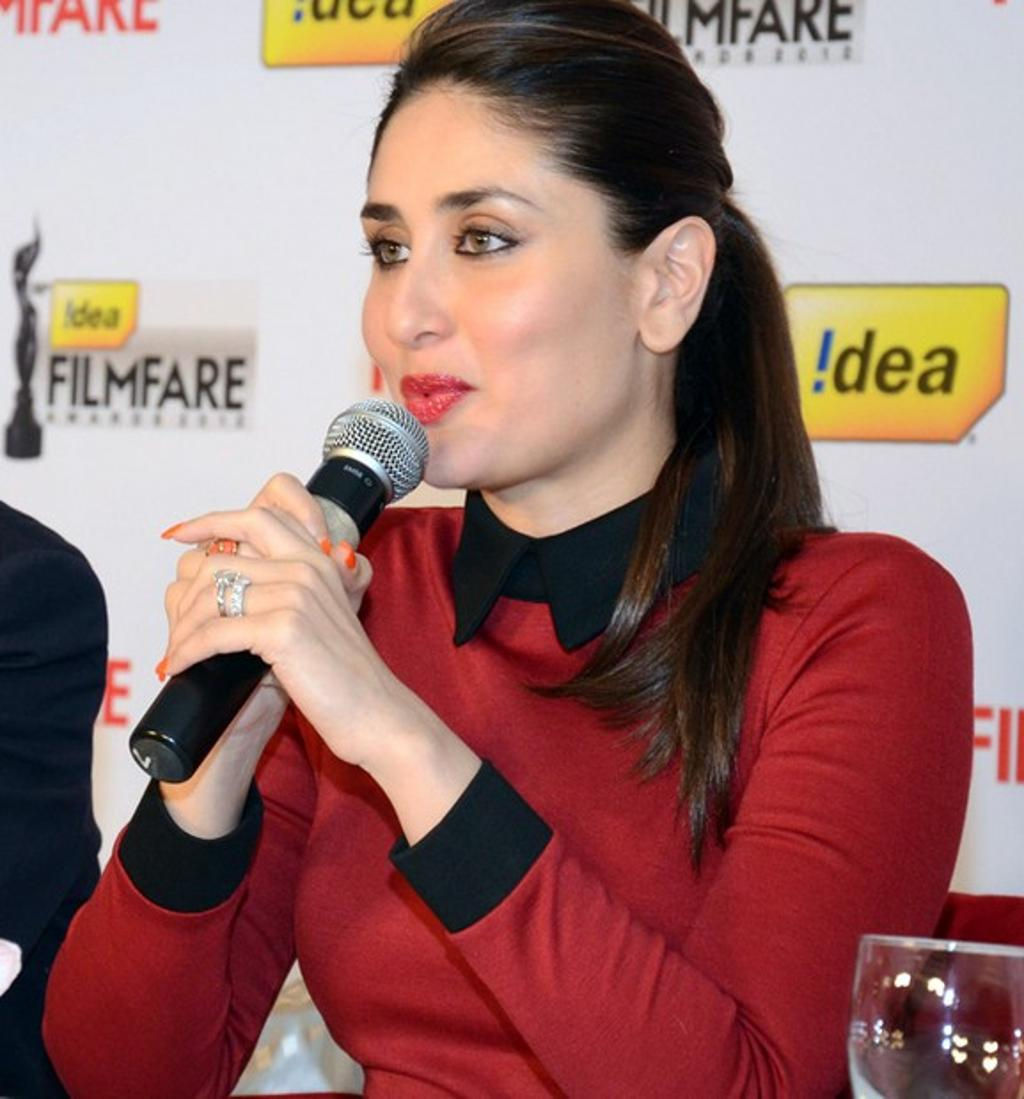face: (367, 56, 642, 485)
